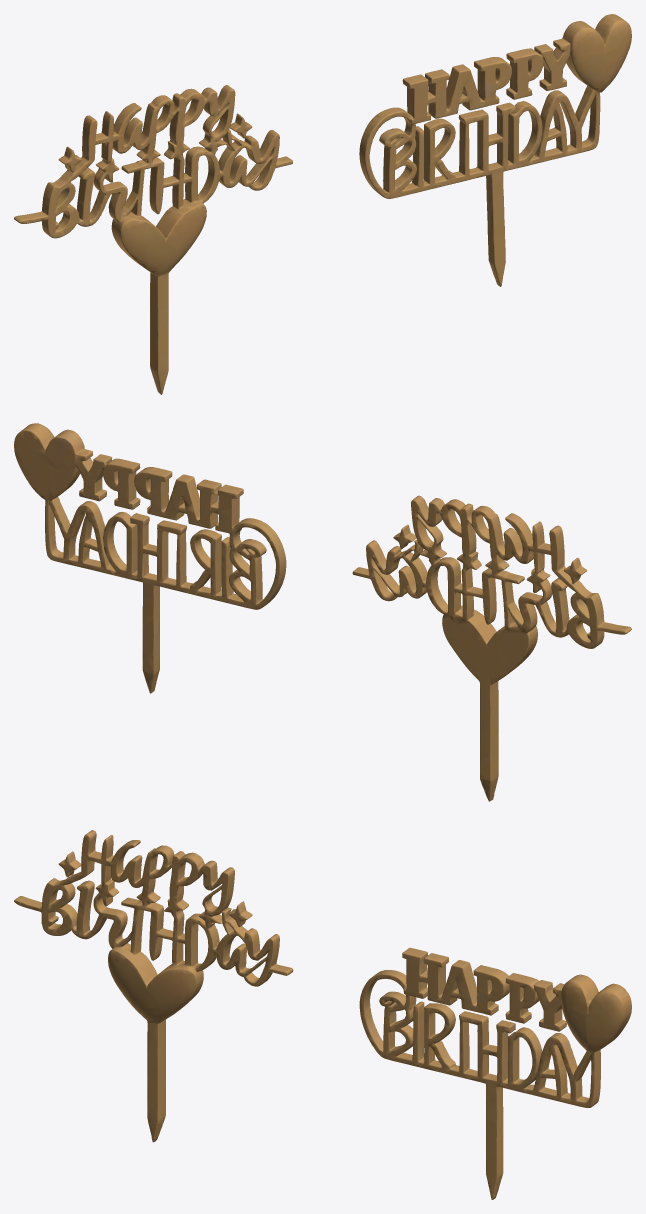
The picture shows the model from 3 angles, top to bottom: view 1: azimuth 30°, elevation 25°; view 2: azimuth 150°, elevation 25°; view 3: azimuth 330°, elevation 25°; orthographic projection.
Visible parts, largest first — view 1: Mesh 17, Mesh 10; view 2: Mesh 17, Mesh 10; view 3: Mesh 17, Mesh 10.
Boxes of the visible parts, x1=… form: Mesh 17: x1=359, y1=14, x2=631, y2=286; Mesh 10: x1=14, y1=85, x2=292, y2=394; Mesh 17: x1=14, y1=423, x2=286, y2=693; Mesh 10: x1=352, y1=495, x2=631, y2=801; Mesh 17: x1=359, y1=947, x2=631, y2=1199; Mesh 10: x1=14, y1=830, x2=293, y2=1142.
Size of the model in its own units: 1.21 by 0.5548 by 0.0478.
2 materials, 2 textured.
